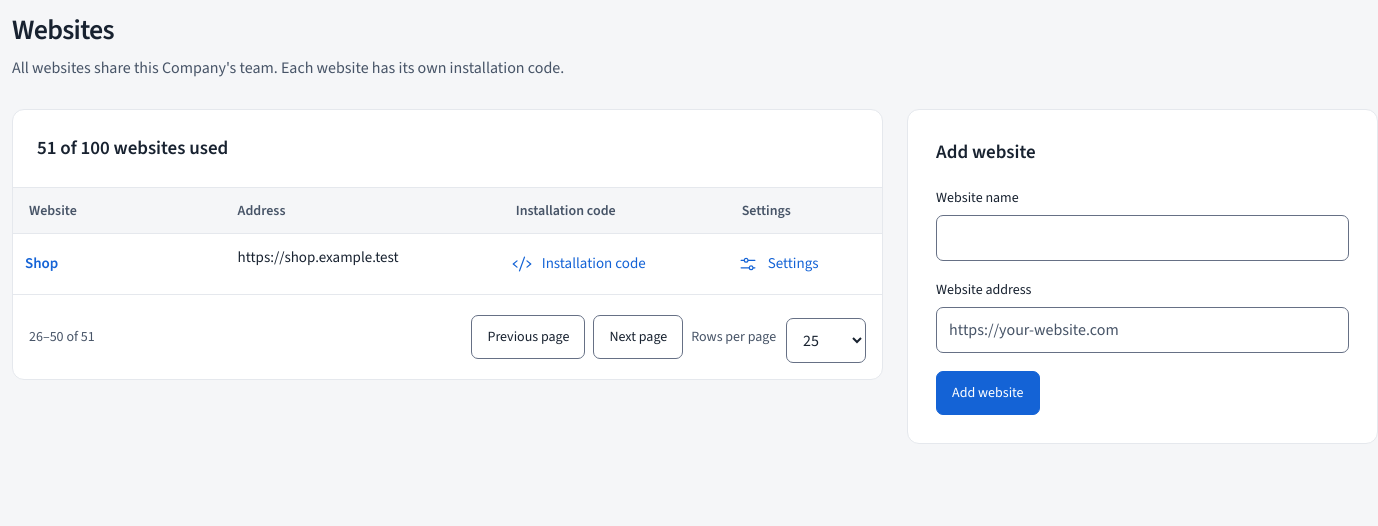
Test case: normalizes the address and preserves the form after rejected creation
Expected: the link "Shop" is shown, [25, 253, 58, 273]
Type "https://new.example.test/path?q=private" into the field labelled "Website address" at {"x": 1143, "y": 330}, box [936, 307, 1349, 353]
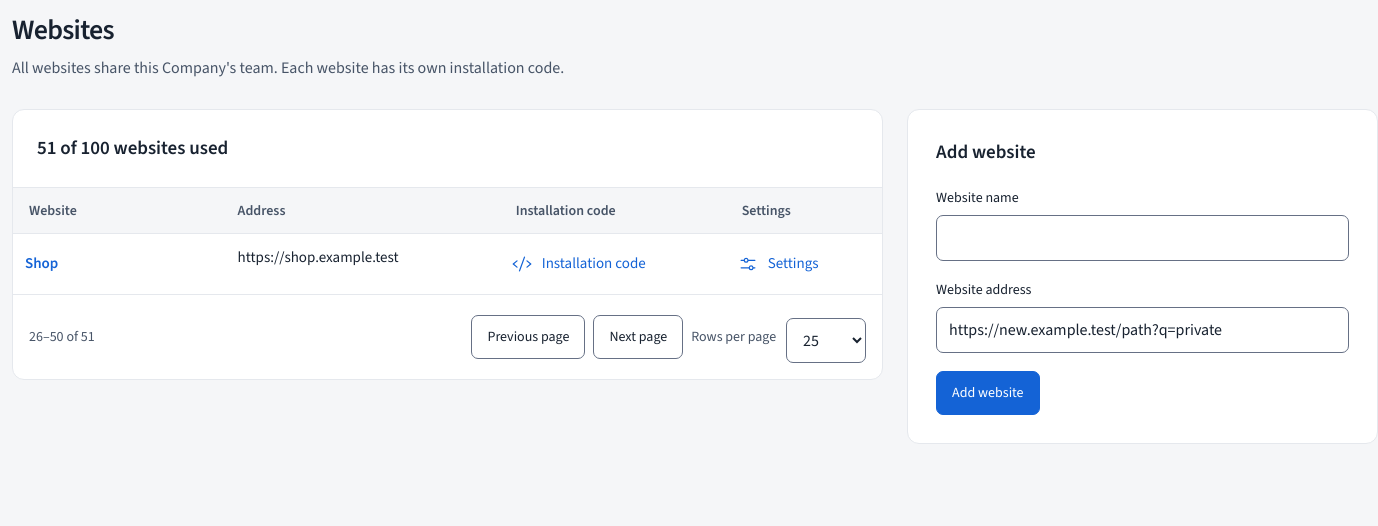
Click the button "Add website" at {"x": 988, "y": 393}, box [936, 371, 1040, 415]
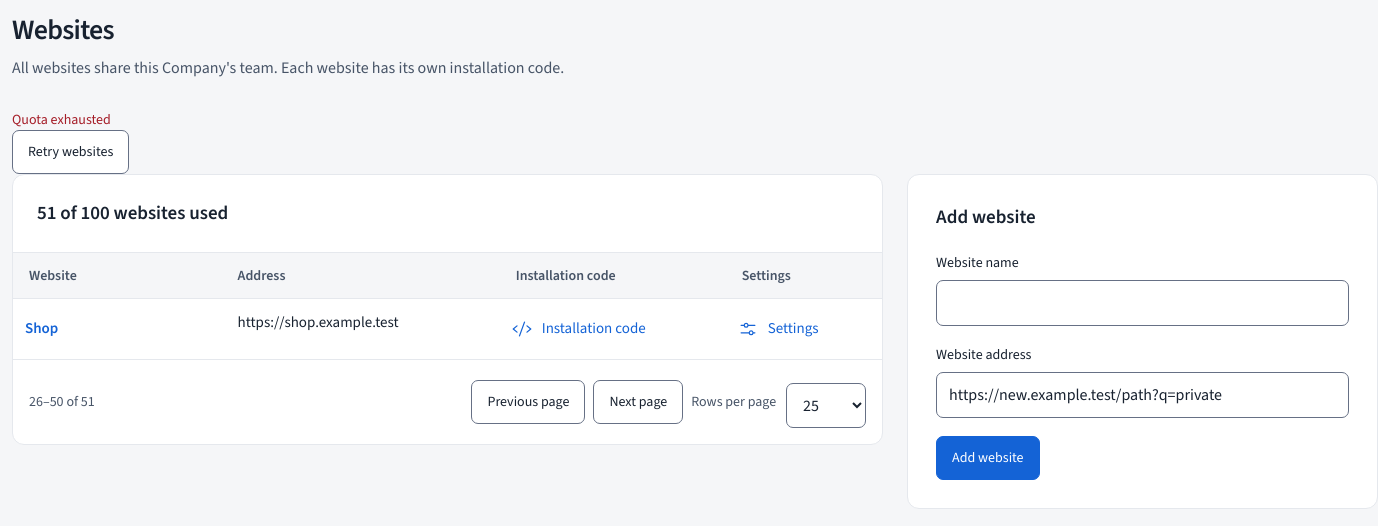
Now the message reads "Quota exhausted", box [12, 110, 111, 129]
